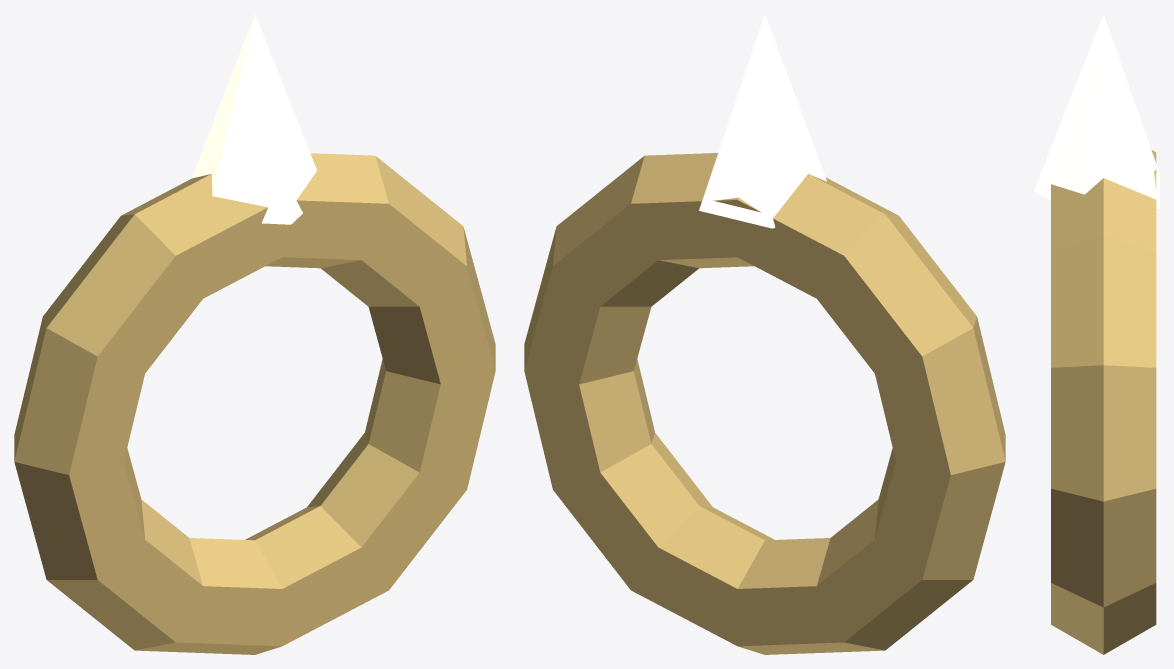
File: EmblemPyromancer.fbx
3 renders of one model, left to right at view 1: azimuth 30°, elevation 25°; view 2: azimuth 150°, elevation 25°; view 3: azimuth 270°, elevation 25°, orthographic. The views are drawn at different scales.
Parts seen in each view (by area): view 1: fam_gold, fam_flame_emit; view 2: fam_gold, fam_flame_emit; view 3: fam_gold, fam_flame_emit.
Part boxes in pixels (box(x1,y1,x2,y2)): fam_gold: box(14, 153, 495, 654); fam_flame_emit: box(192, 14, 316, 224); fam_gold: box(524, 153, 1005, 654); fam_flame_emit: box(699, 14, 826, 228); fam_gold: box(1051, 149, 1156, 654); fam_flame_emit: box(1034, 14, 1159, 208).
Size of the model in its own units: 0.861 by 1.1 by 0.2026.
